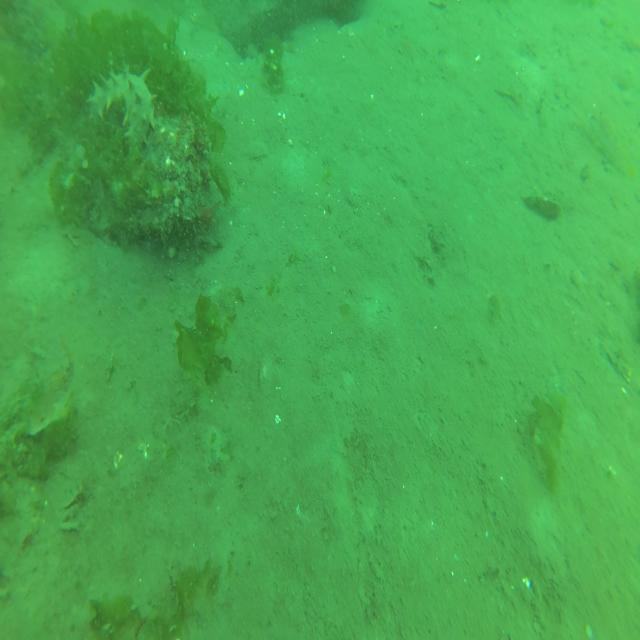holothurian: (85, 67, 156, 153)
scallop: (524, 193, 560, 219)
